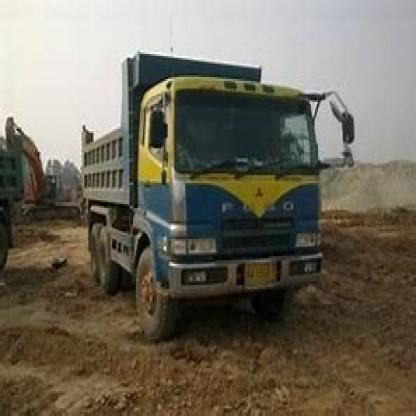dump_truck: (63, 31, 356, 331)
